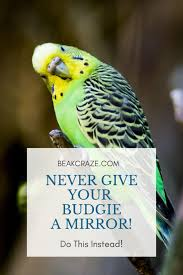budgie: (31, 41, 153, 146)
